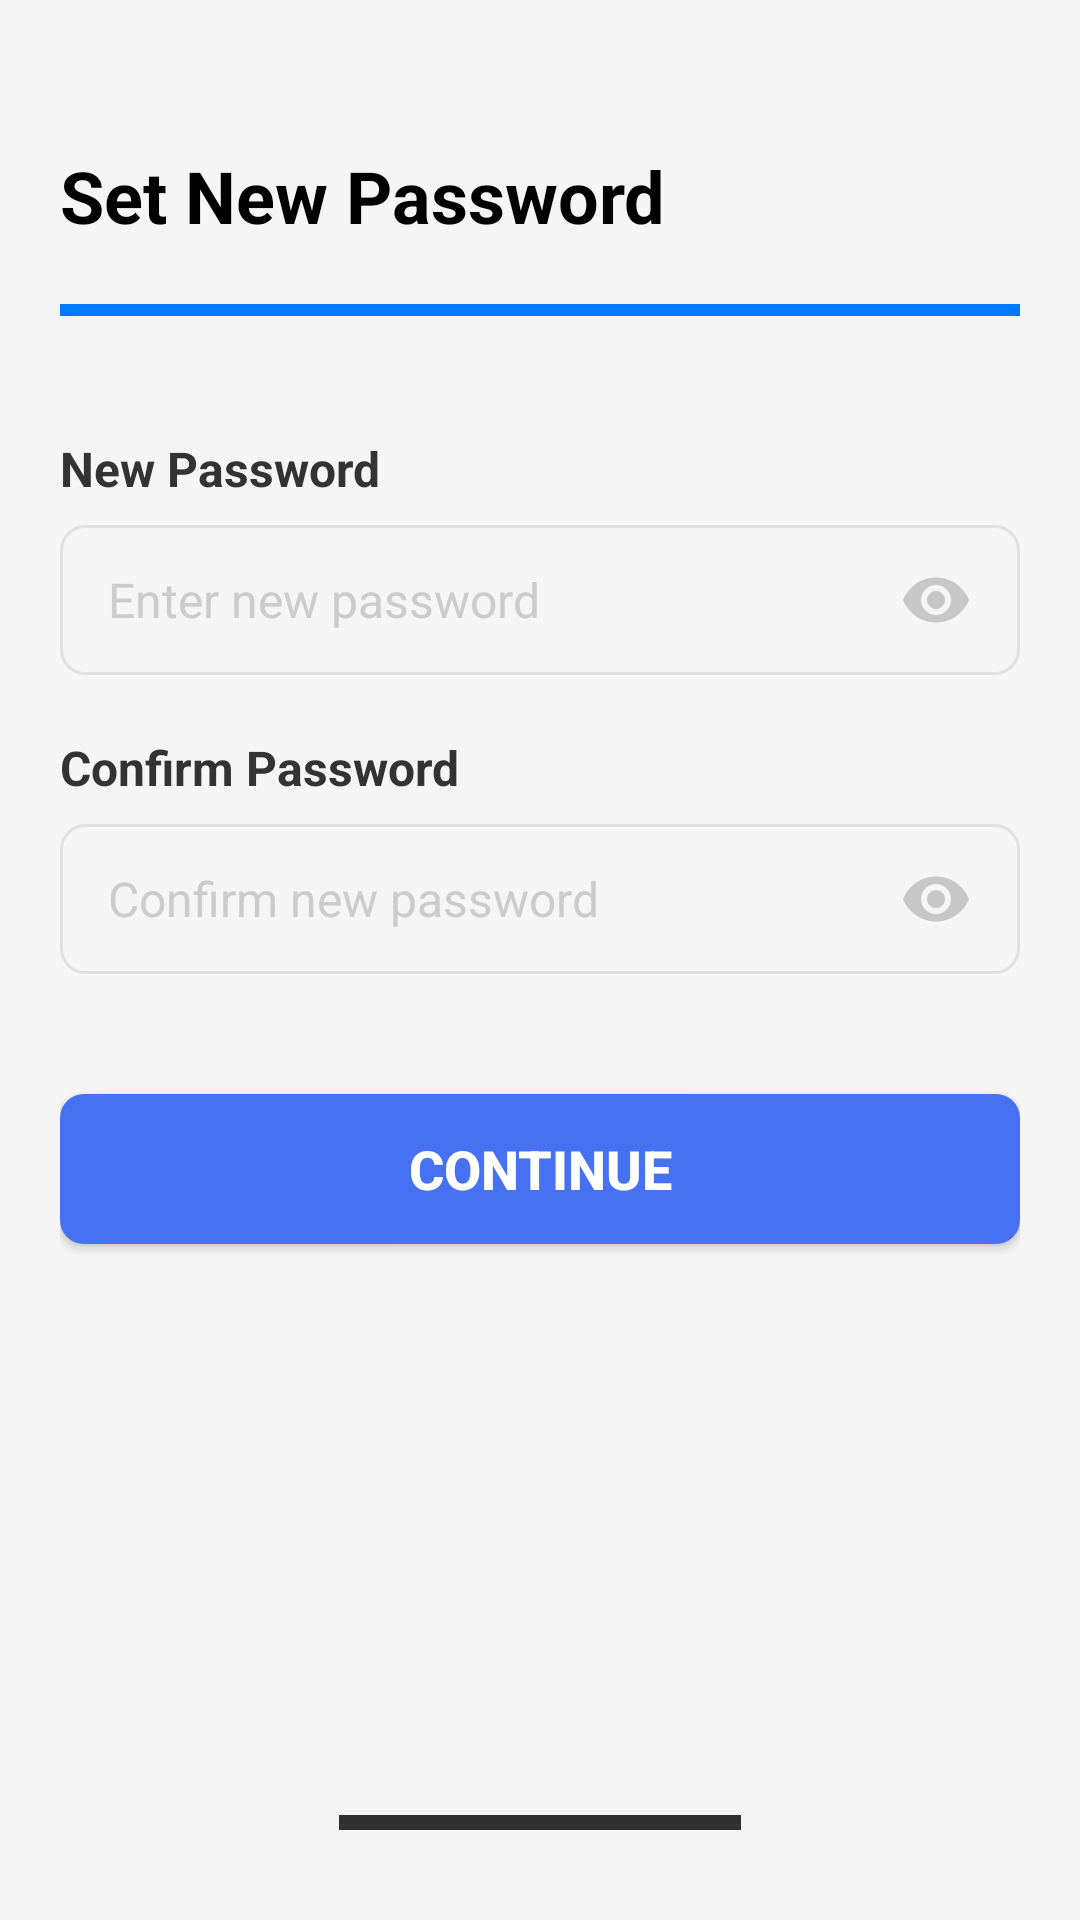

Icon click points for this 1080 × 1920 phone screenshot, format [x,y]:
eye: [936,600], [936,899]
